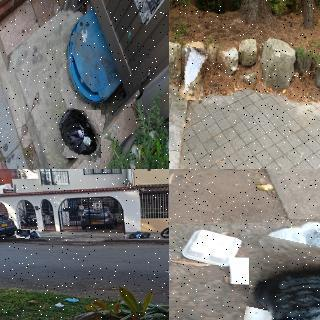Garbage: (244, 241, 320, 320), (52, 108, 103, 160), (262, 218, 320, 257), (180, 47, 206, 101), (16, 230, 30, 239), (28, 231, 39, 238), (140, 232, 151, 238), (128, 233, 136, 239), (36, 232, 42, 238), (135, 233, 141, 238)
